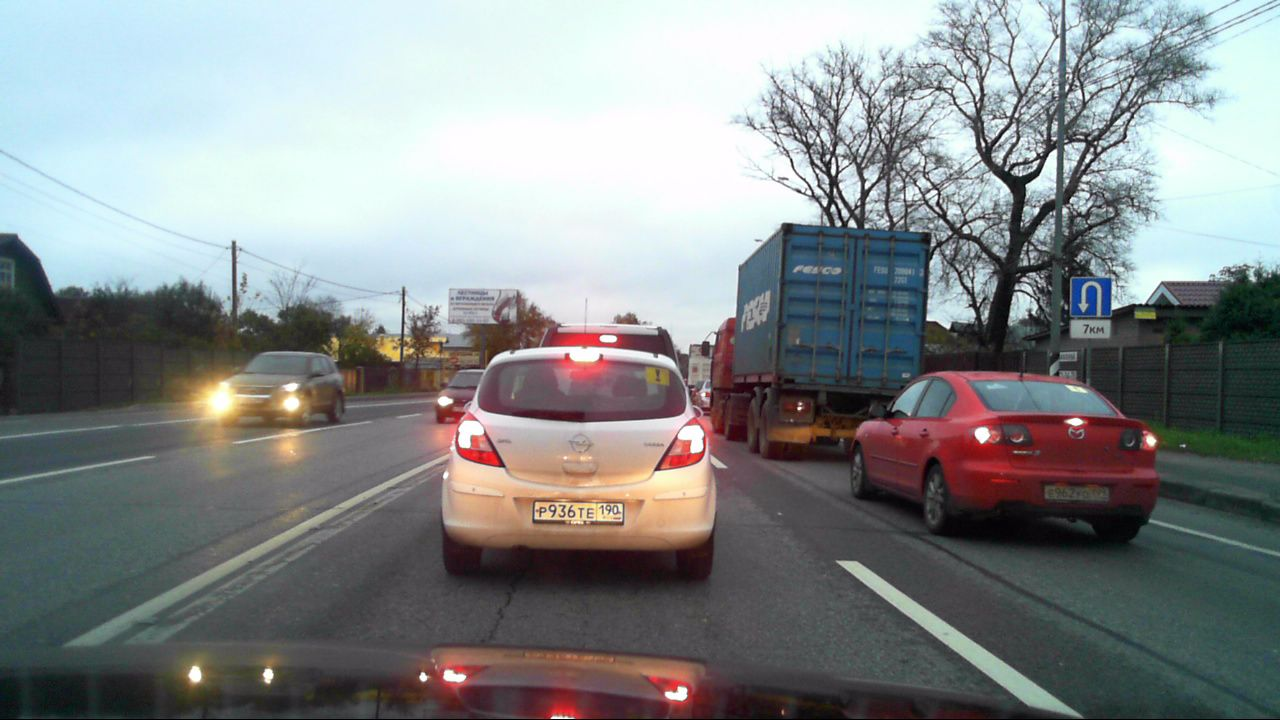U-turn: (1070, 277, 1111, 317)
